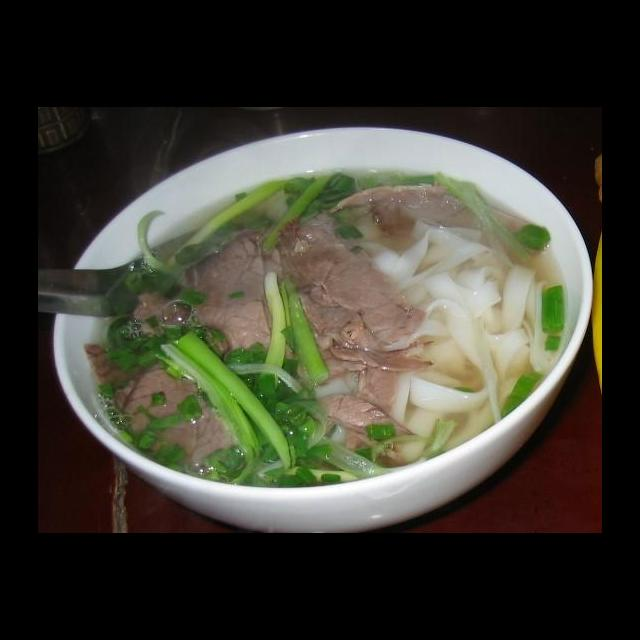banh pho: (364, 213, 571, 469)
pho bo: (64, 144, 600, 530)
thit bo: (281, 208, 439, 377), (128, 230, 296, 358), (101, 361, 247, 467), (320, 174, 547, 241), (298, 388, 420, 473)
